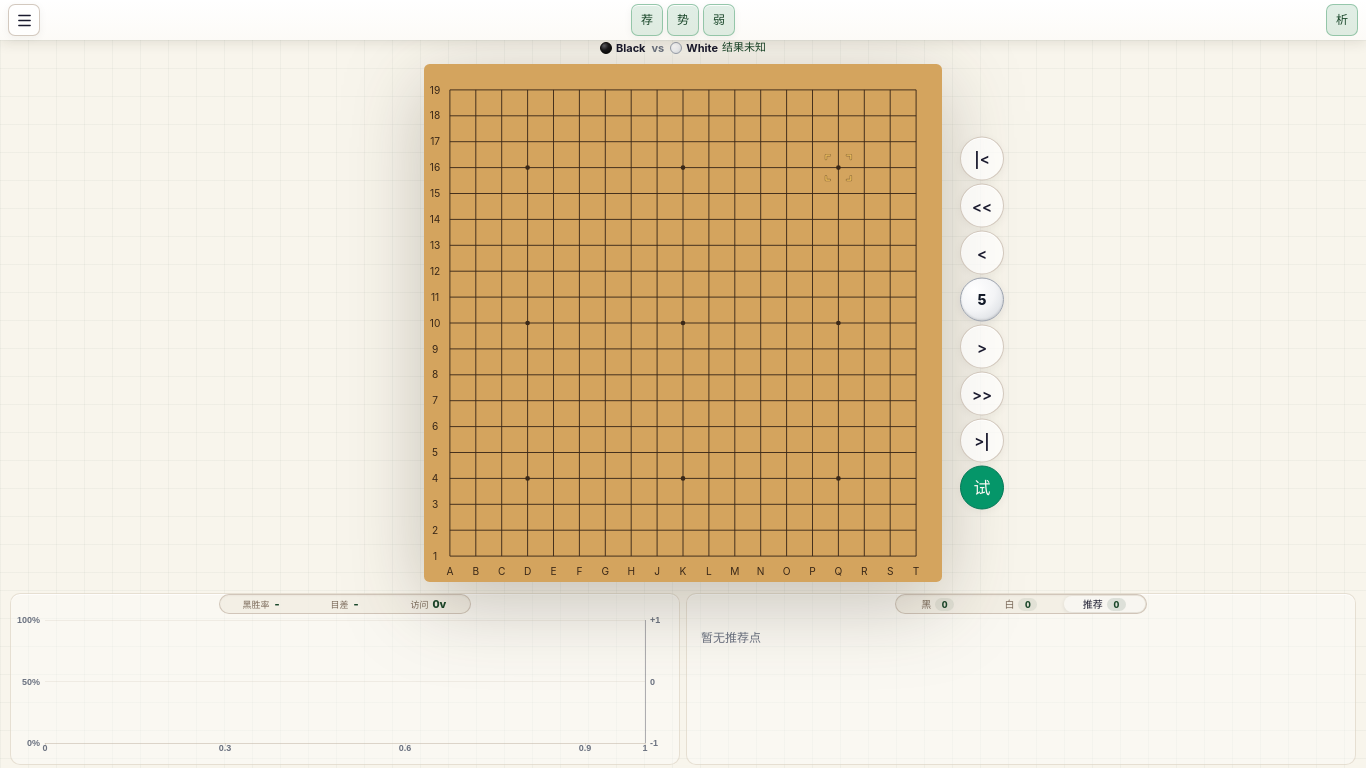
Test case: App variation navigation › returns from the local game page with Escape
Check: the text named "Move 5, white to play" is shown, box x1=960 y1=278 x2=1004 y2=322
Click the button named "打开功能菜单": (24, 20) x1=8 y1=4 x2=40 y2=36
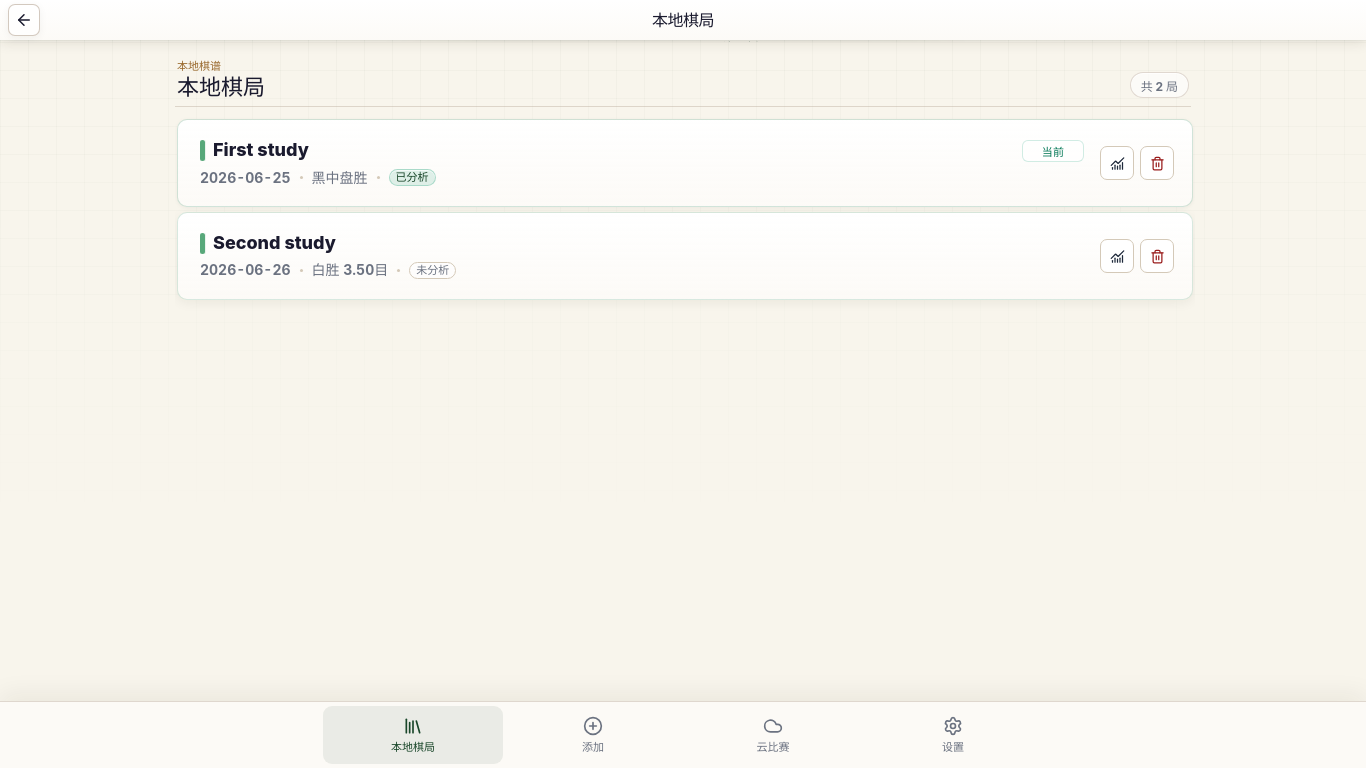
Check: the element named "本地棋局内容" is shown, box x1=175 y1=54 x2=1193 y2=300
Check: the header "本地棋局" is shown, box x1=8 y1=4 x2=714 y2=36
Check: the button labelled "打开功能菜单" is gone
Press Escape
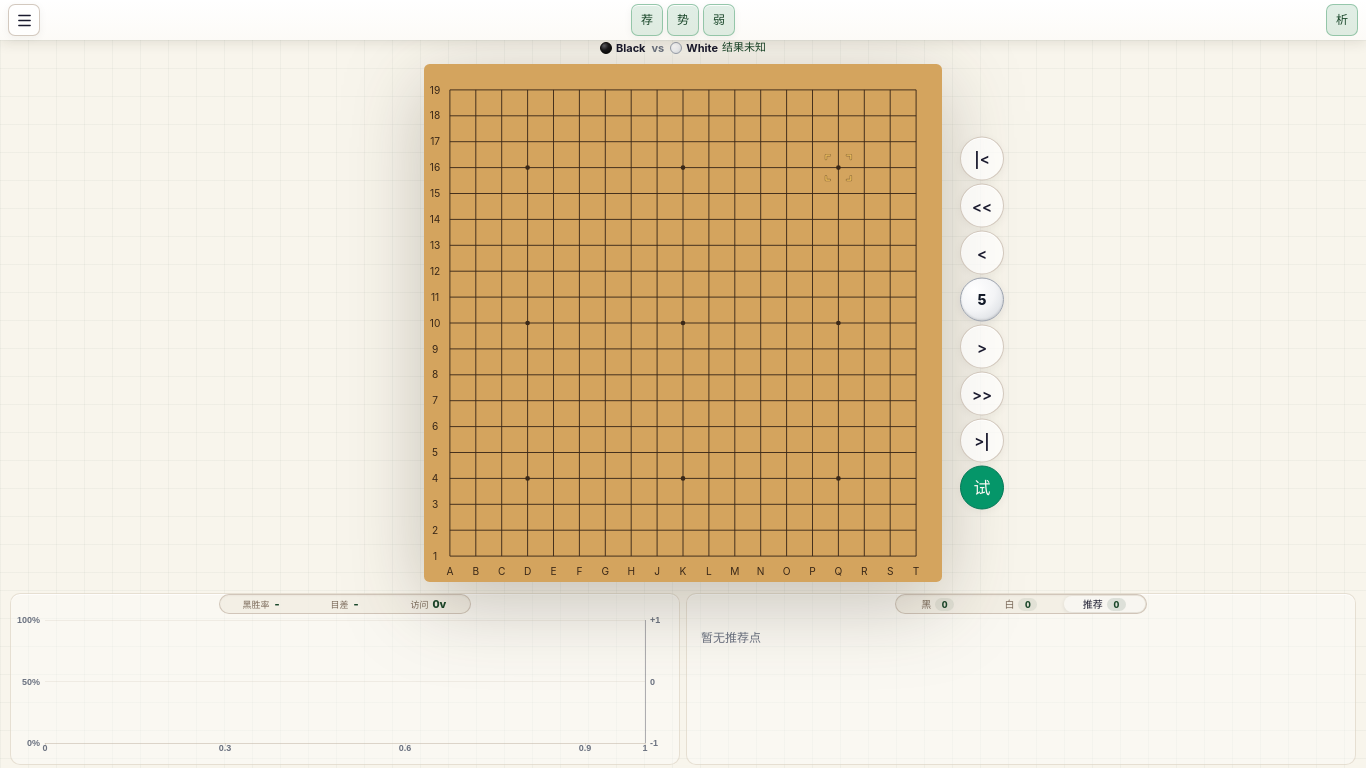
Check: the element "本地棋局内容" is gone
Check: the button named "打开功能菜单" is shown, box x1=8 y1=4 x2=40 y2=36
